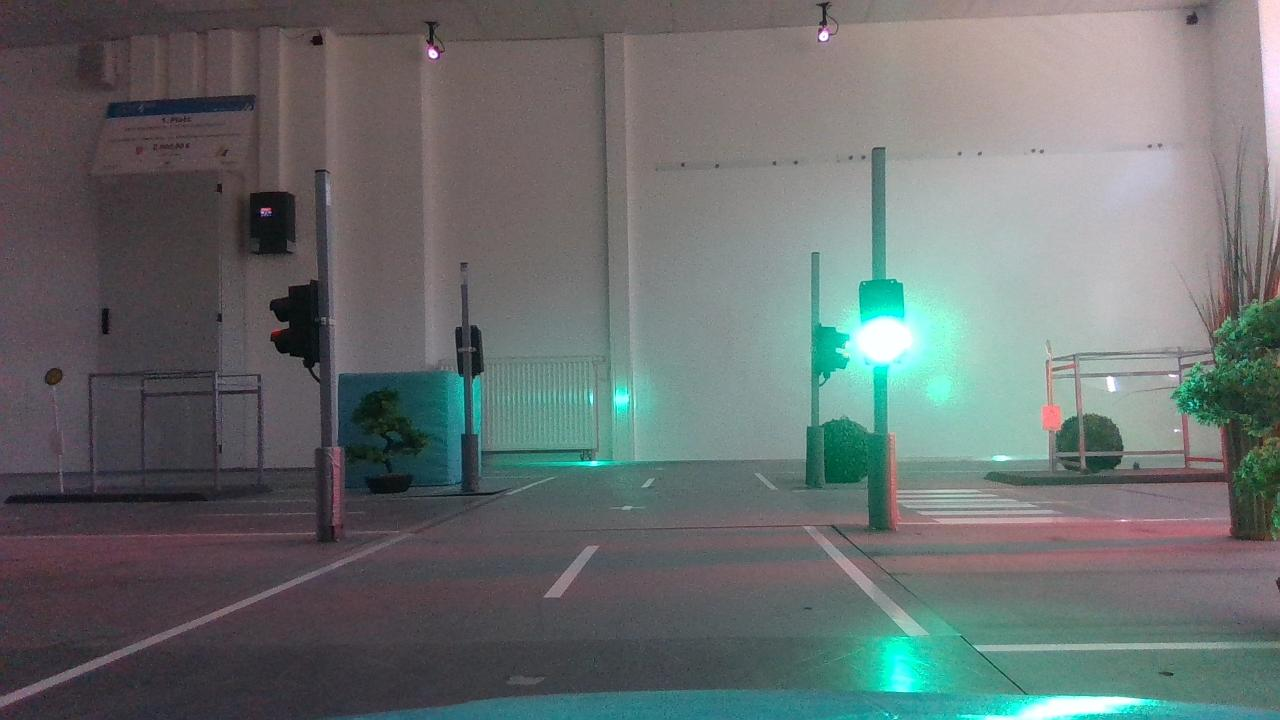traffic_light_green: (844, 271, 927, 376)
